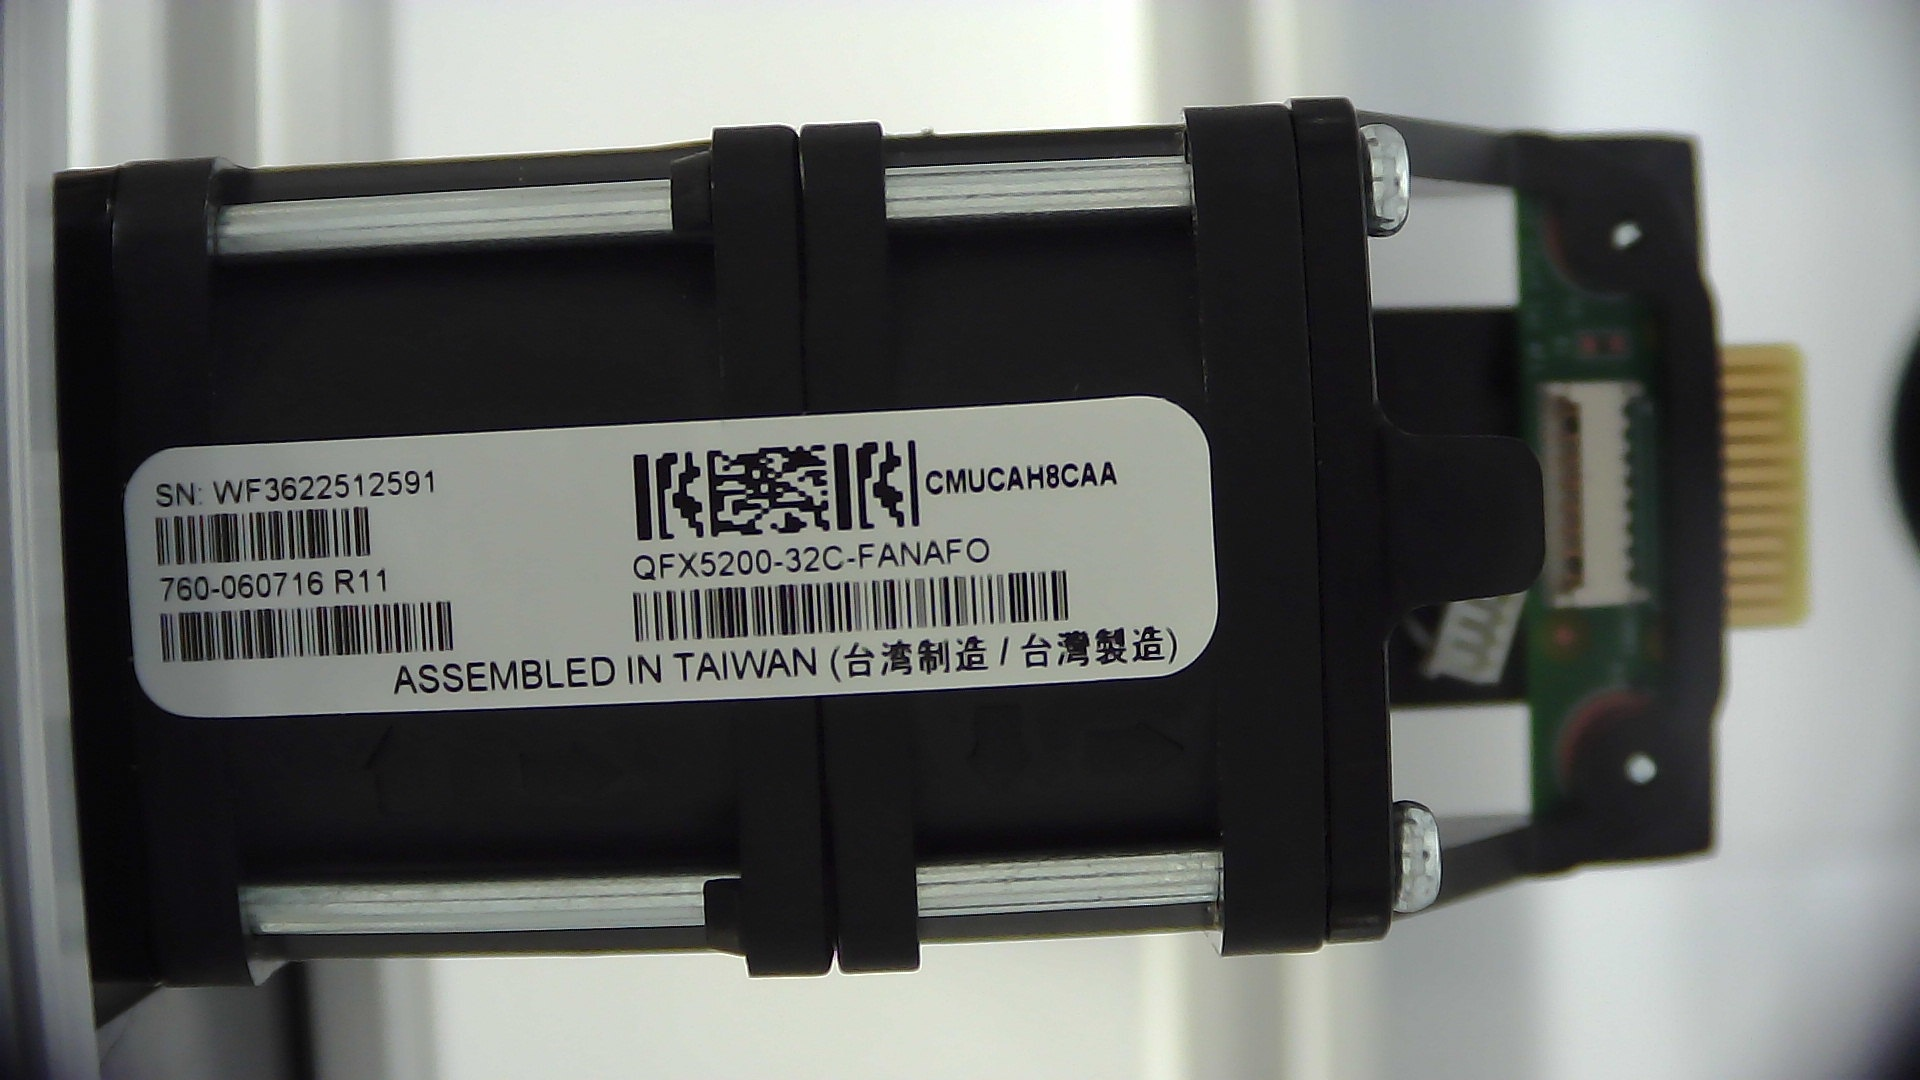2_1: (1531, 375, 1619, 611)
